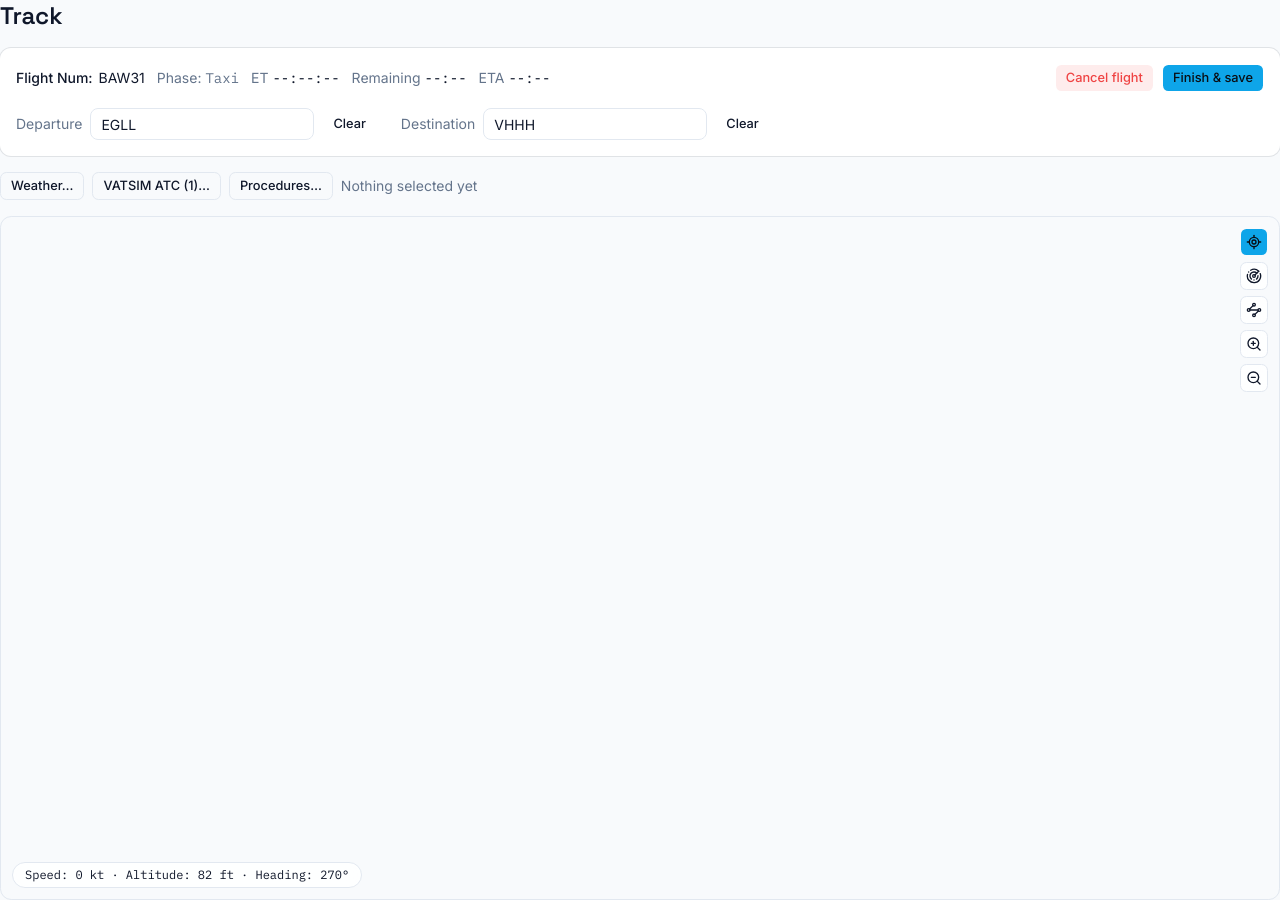
it: TrackView › ET, time remaining and ETA (track-time-readouts.md) › offers who is online at the flight’s airports as a button beside Weather, opening them in a pop-up
This screenshot has width=1280, height=900.
Expected: the text "Online ATC at your airports (VATSIM)" is not shown
Click the button "VATSIM ATC (1)…": (157, 186) [92,172,221,200]
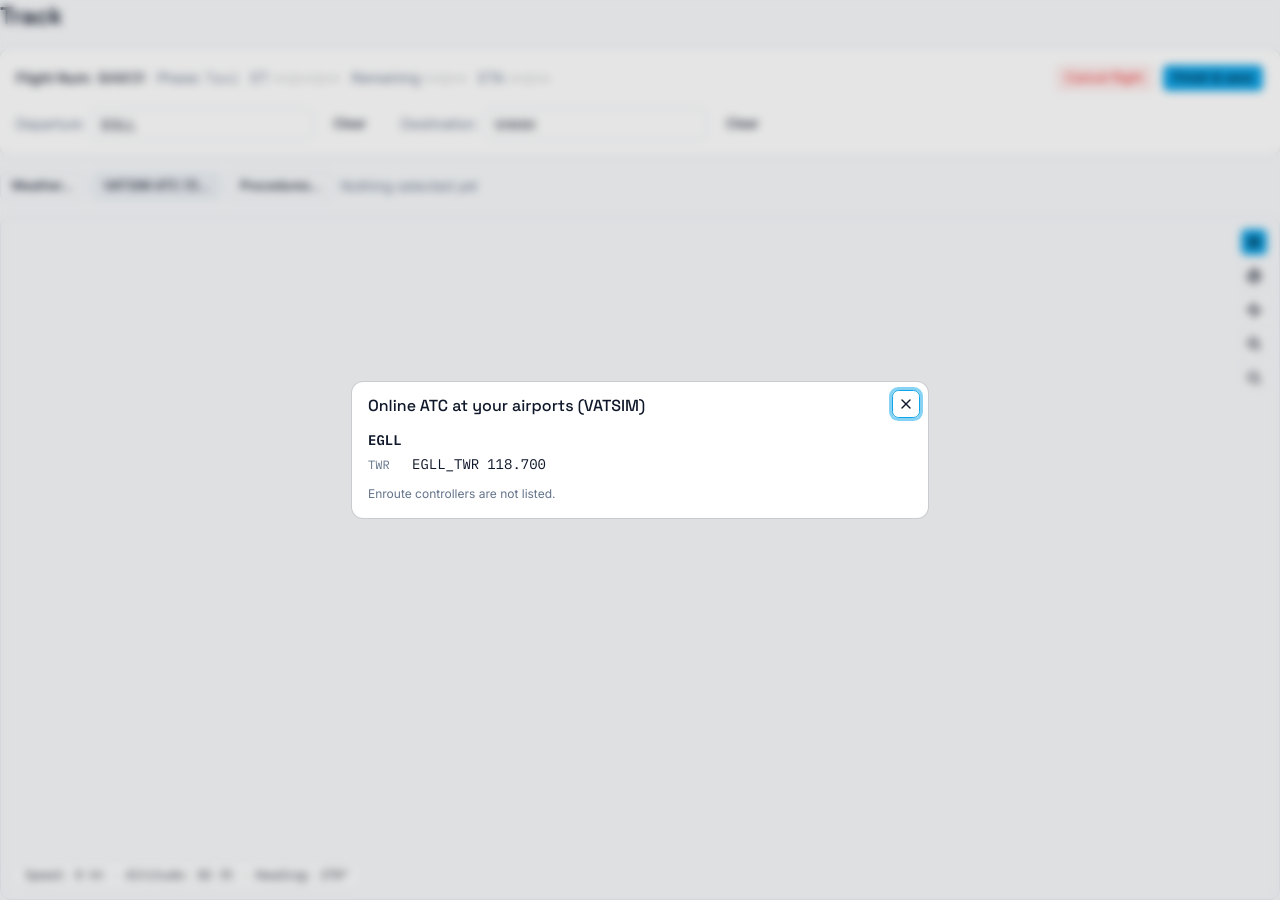
Result: the text "EGLL_TWR" is shown at [412,454,479,474]
